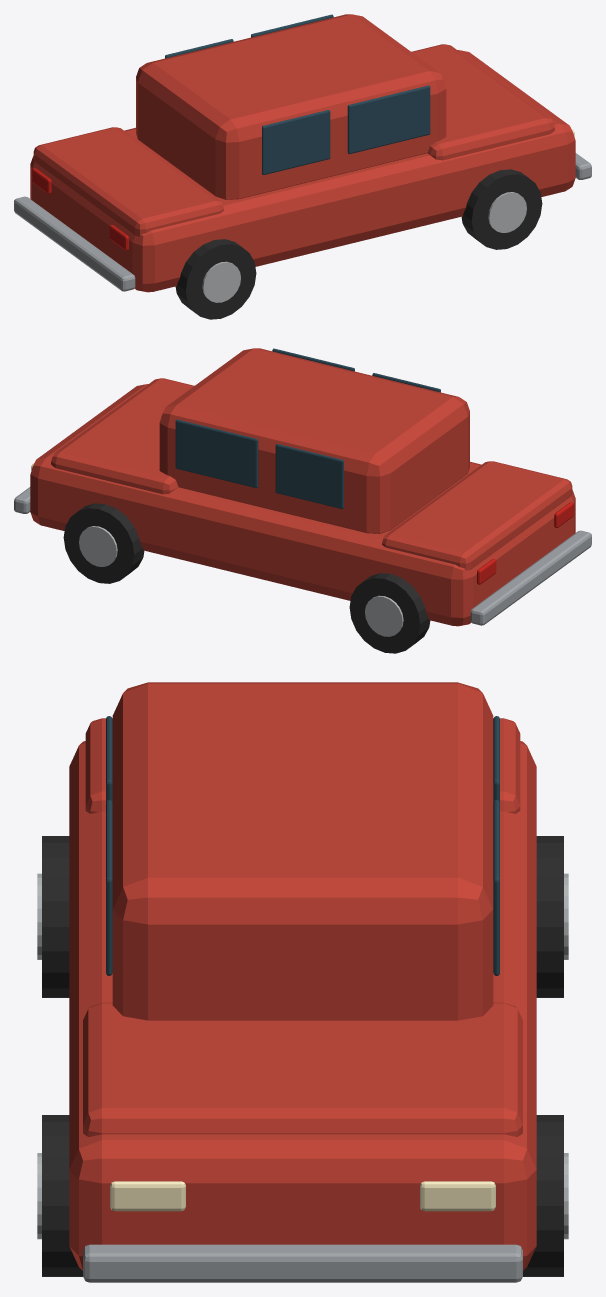
The model's file is sedan_car.glb.
The picture shows the model from 3 angles, top to bottom: view 1: azimuth 30°, elevation 25°; view 2: azimuth 150°, elevation 25°; view 3: azimuth 270°, elevation 25°; orthographic projection. The views are drawn at different scales.
Visible parts, largest first — view 1: Cabin, Car_Body, Boot, Bonnet, Side_Window_Front, Tyre, Tyre.002, Side_Window_Rear, Rear_Bumper, Wheel_Rim, Wheel_Rim.002; view 2: Cabin, Car_Body, Boot, Bonnet, Side_Window_Front.001, Tyre.001, Tyre.003, Side_Window_Rear.001, Rear_Bumper, Wheel_Rim.001, Wheel_Rim.003; view 3: Cabin, Car_Body, Bonnet, Front_Bumper, Tyre.002, Tyre.003, Tyre, Tyre.001, Boot, Headlight, Headlight.001, Side_Window_Front (+1 smaller).
Boxes of the visible parts, x1,y1,x2,y2 form: Cabin: (136, 14, 446, 199); Car_Body: (30, 50, 575, 292); Boot: (33, 127, 223, 236); Bonnet: (411, 44, 554, 160); Side_Window_Front: (347, 85, 430, 154); Tyre: (175, 239, 256, 319); Tyre.002: (461, 169, 542, 249); Side_Window_Rear: (262, 110, 330, 174); Rear_Bumper: (14, 196, 135, 291); Wheel_Rim: (202, 261, 240, 302); Wheel_Rim.002: (488, 192, 526, 232); Cabin: (159, 348, 469, 533); Car_Body: (30, 384, 575, 626); Boot: (382, 461, 572, 570); Bonnet: (51, 378, 194, 494); Side_Window_Front.001: (175, 419, 258, 488); Tyre.001: (349, 573, 430, 653); Tyre.003: (63, 503, 144, 583); Side_Window_Rear.001: (275, 444, 343, 508); Rear_Bumper: (470, 530, 591, 625); Wheel_Rim.001: (365, 595, 403, 636); Wheel_Rim.003: (79, 526, 117, 566); Cabin: (112, 682, 493, 1020); Car_Body: (69, 741, 536, 1270); Bonnet: (83, 1002, 522, 1136); Front_Bumper: (83, 1244, 522, 1282); Tyre.002: (42, 1115, 82, 1276); Tyre.003: (523, 1115, 563, 1276); Tyre: (42, 836, 69, 997); Tyre.001: (536, 836, 563, 997); Boot: (85, 718, 520, 813); Headlight: (110, 1181, 185, 1211); Headlight.001: (420, 1181, 495, 1211); Side_Window_Front: (106, 800, 112, 975).
Bounding box in the file's own units: 4 × 1.39 × 1.95.
